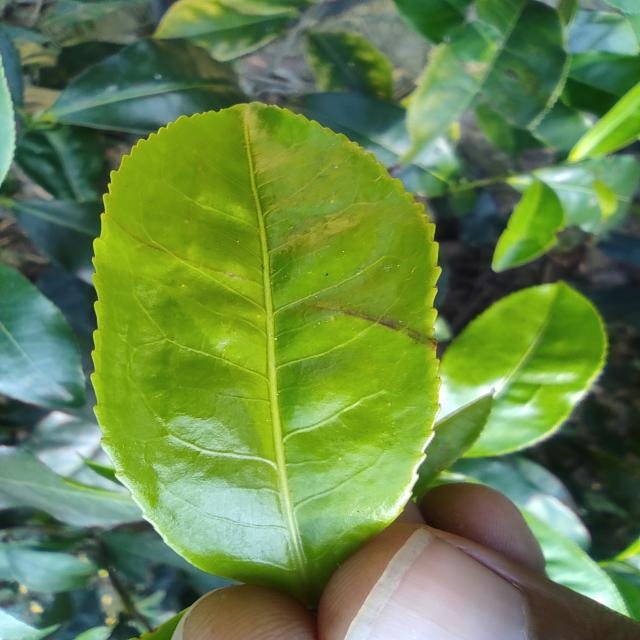Category C 4-7 days: (79, 90, 481, 586)
